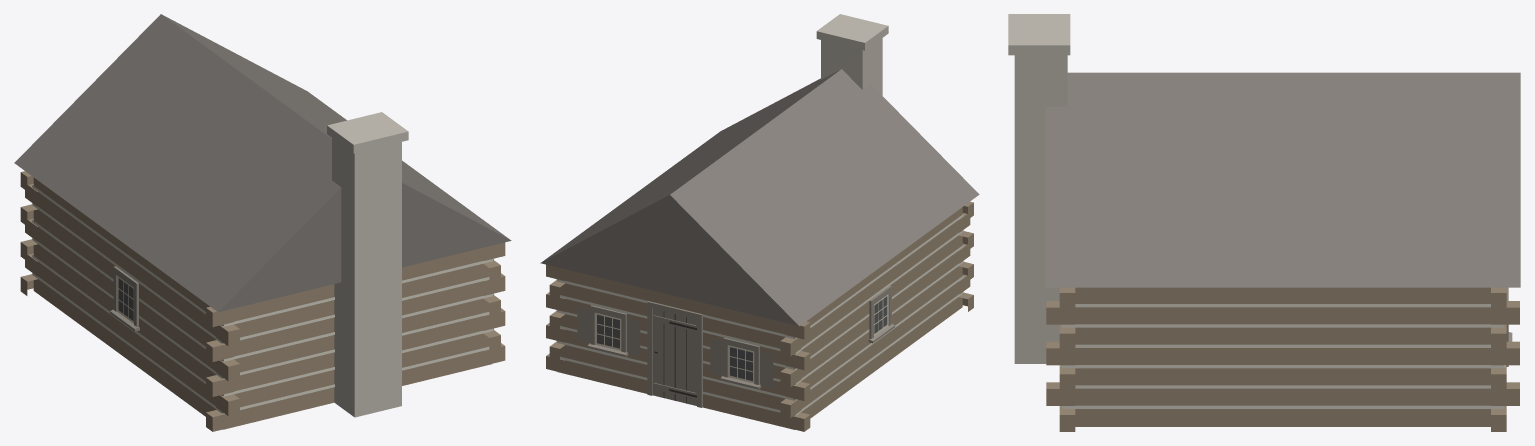
File: recon_1835_west_001__inferred_1835.glb
The picture shows the model from 3 angles, left to right: view 1: azimuth 30°, elevation 25°; view 2: azimuth 150°, elevation 25°; view 3: azimuth 270°, elevation 25°; orthographic projection. The views are drawn at different scales.
Visible parts, largest first — view 1: recon_1835_west_001__inferred_1835; view 2: recon_1835_west_001__inferred_1835; view 3: recon_1835_west_001__inferred_1835.
Boxes of the visible parts, x1=… form: recon_1835_west_001__inferred_1835: x1=14, y1=14, x2=511, y2=431; recon_1835_west_001__inferred_1835: x1=540, y1=14, x2=979, y2=431; recon_1835_west_001__inferred_1835: x1=1008, y1=14, x2=1520, y2=431.
Bounding box in the file's own units: 5.99 × 5.37 × 7.78.
